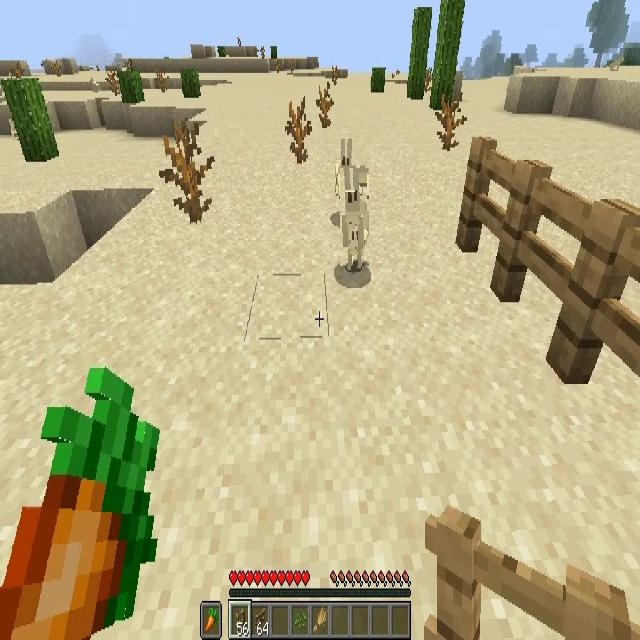rabbit: (340, 168, 369, 266), (334, 137, 358, 202)
